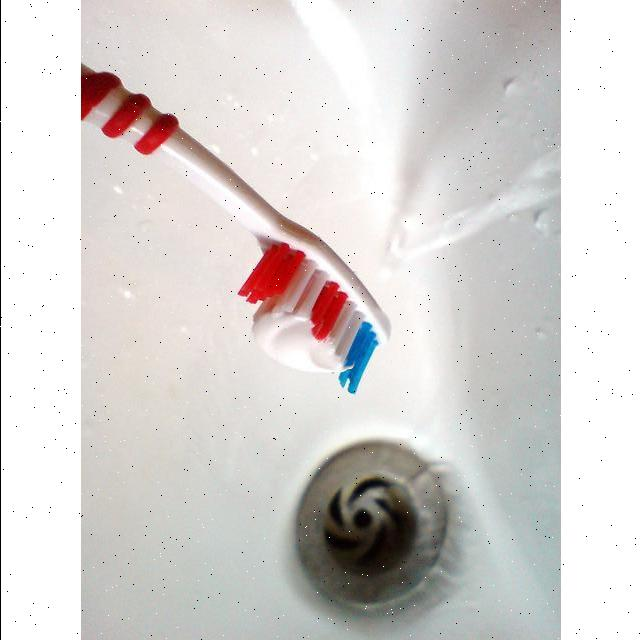toothbrush: (88, 1, 554, 636), (80, 65, 392, 395)
